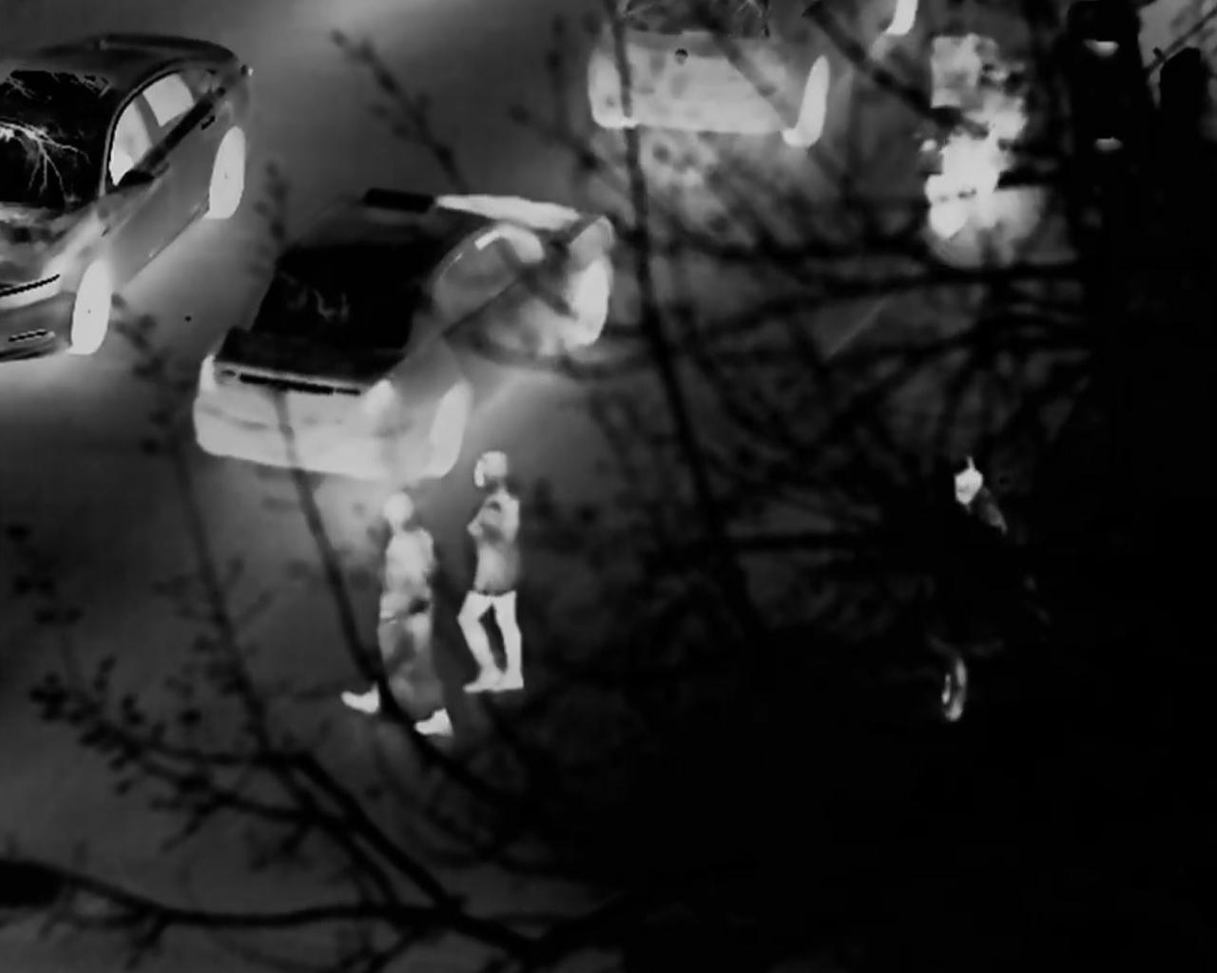person: (338, 490, 460, 734), (462, 450, 551, 697)
